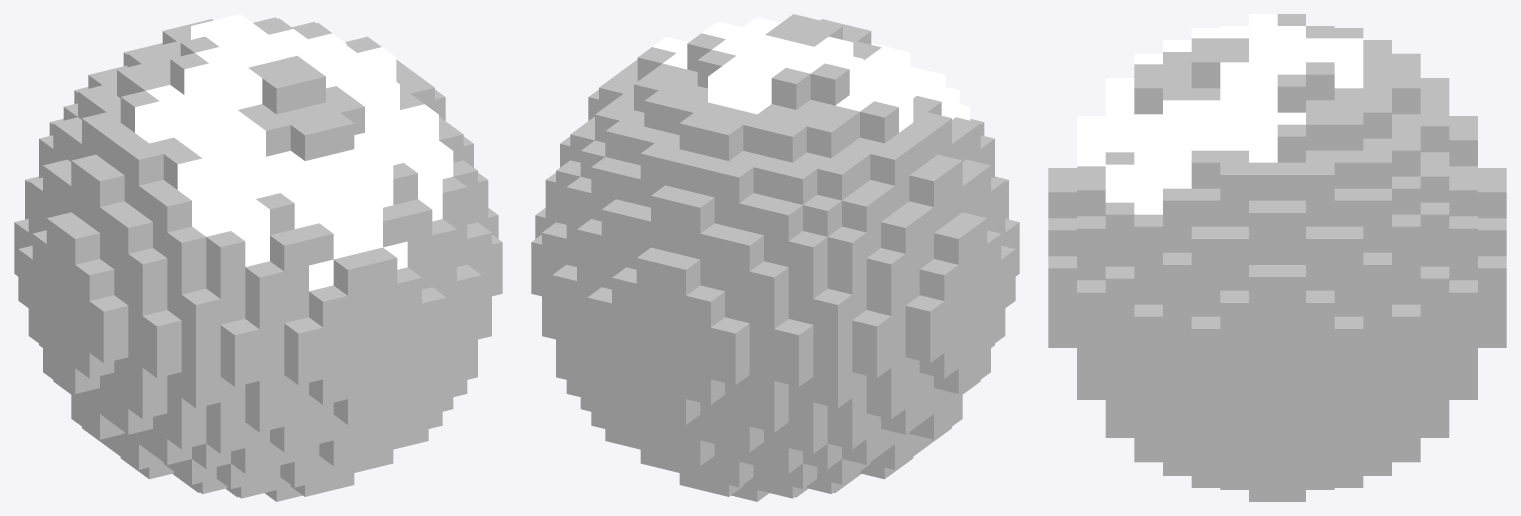
File: item_RECLAIM_TRAP.glb
3 renders of one model, left to right at view 1: azimuth 30°, elevation 25°; view 2: azimuth 150°, elevation 25°; view 3: azimuth 270°, elevation 25°, orthographic.
Parts seen in each view (by area): view 1: item_RECLAIM_TRAP; view 2: item_RECLAIM_TRAP; view 3: item_RECLAIM_TRAP.
Boxes of the visible parts, x1=… form: item_RECLAIM_TRAP: x1=14, y1=14, x2=502, y2=501; item_RECLAIM_TRAP: x1=531, y1=14, x2=1019, y2=501; item_RECLAIM_TRAP: x1=1048, y1=14, x2=1506, y2=501.
Bounding box in the file's own units: 0.1818 × 0.1818 × 0.1818.
1 material, 1 textured.
